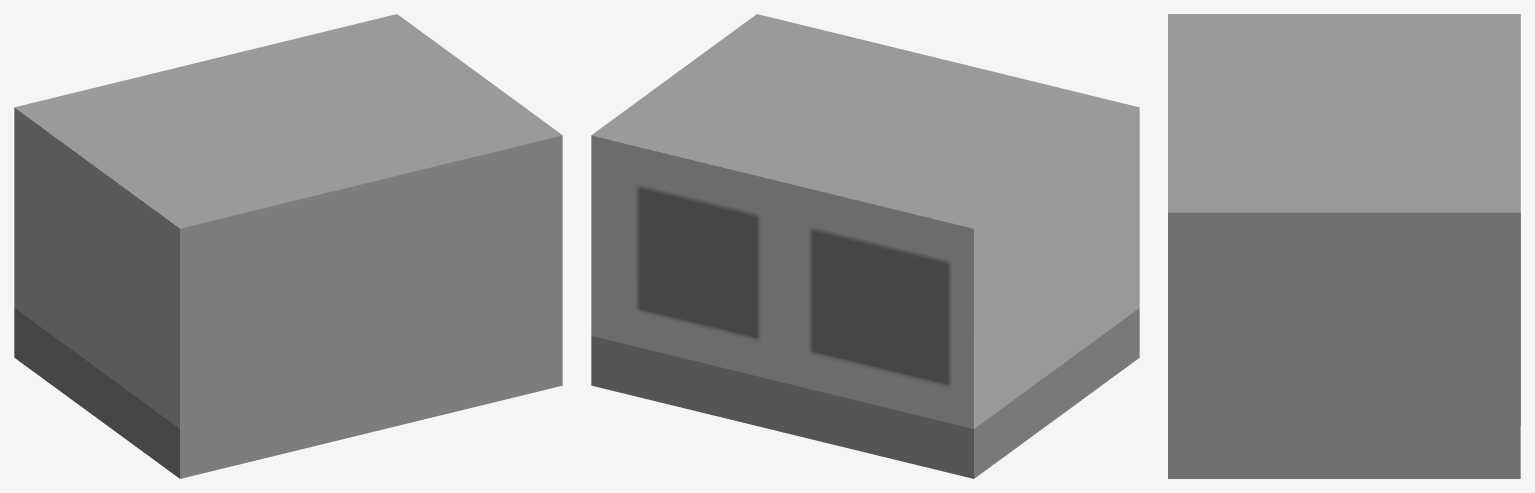
Rendered from P_roof_asset01.fbx.
3 renders of one model, left to right at view 1: azimuth 30°, elevation 25°; view 2: azimuth 150°, elevation 25°; view 3: azimuth 270°, elevation 25°, orthographic. The views are drawn at different scales.
Visible parts, largest first — view 1: lp_rooff, p_roof_furniture01; view 2: p_roof_furniture01, lp_rooff; view 3: lp_rooff, p_roof_furniture01.
Boxes of the visible parts, x1,y1,x2,y2 form: lp_rooff: (14,14,562,478); p_roof_furniture01: (14,107,179,428); p_roof_furniture01: (591,108,1139,428); lp_rooff: (591,14,1139,478); lp_rooff: (1168,14,1520,478); p_roof_furniture01: (1520,14,1520,425).
Bounding box in the file's own units: 400 × 250 × 300.
